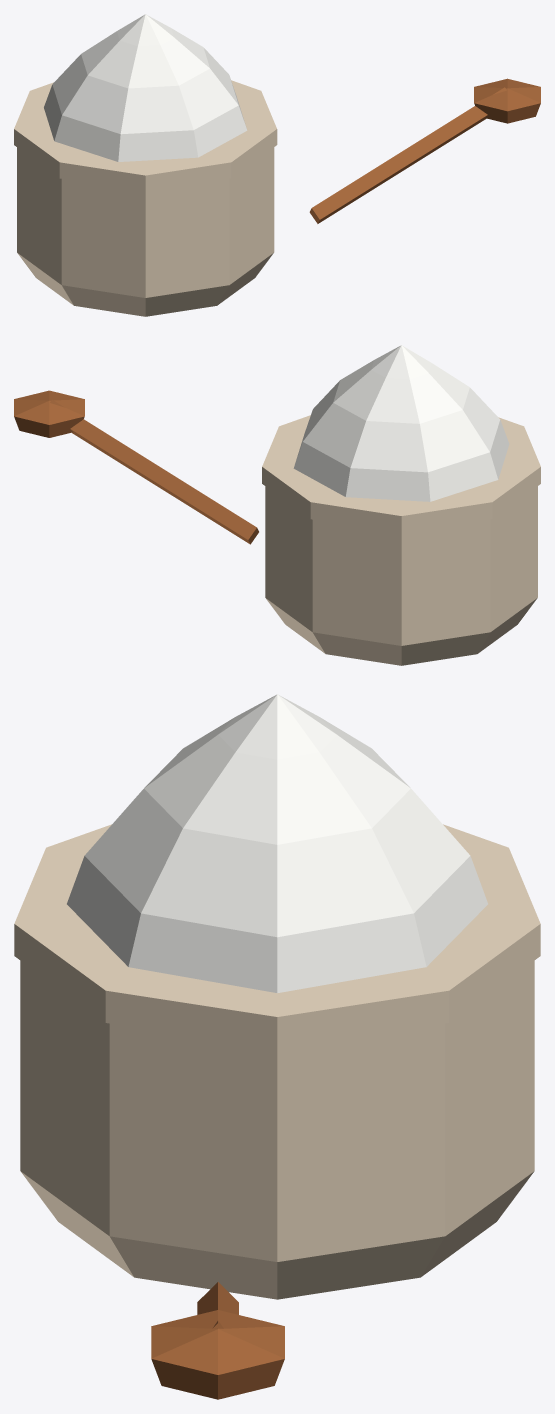
File: cream.glb
The picture shows the model from 3 angles, top to bottom: view 1: azimuth 30°, elevation 25°; view 2: azimuth 150°, elevation 25°; view 3: azimuth 270°, elevation 25°; orthographic projection. The views are drawn at different scales.
Visible parts, largest first — view 1: cream; view 2: cream; view 3: cream.
Part boxes in pixels (x1=…): cream: x1=14, y1=14, x2=540, y2=316; cream: x1=14, y1=345, x2=540, y2=665; cream: x1=14, y1=694, x2=540, y2=1399.
Size of the model in its own units: 0.3806 by 0.19 by 0.1773.
1 material, 1 textured.
